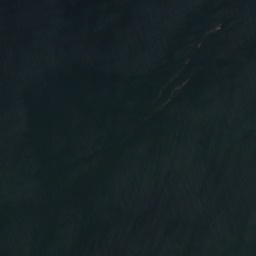Marine Debris: (195, 23, 223, 51)
